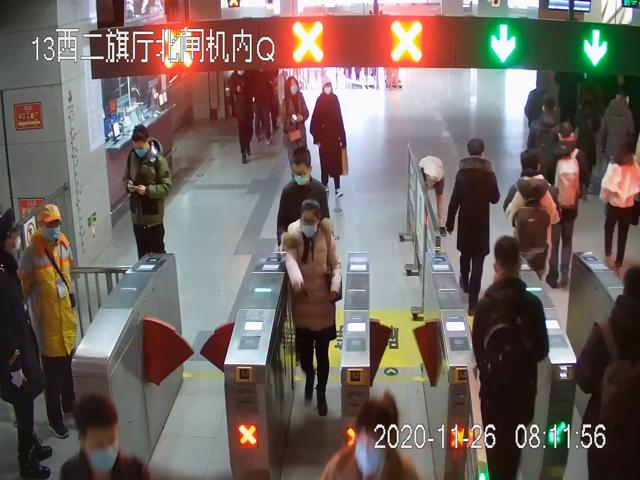person: (468, 236, 549, 479), (469, 236, 549, 480), (20, 204, 85, 437), (280, 201, 340, 415), (446, 140, 499, 314), (121, 124, 173, 258), (542, 121, 582, 288), (309, 76, 346, 196), (280, 77, 316, 179)
